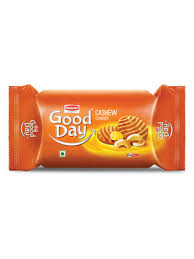gooday-small: (6, 90, 183, 173)
